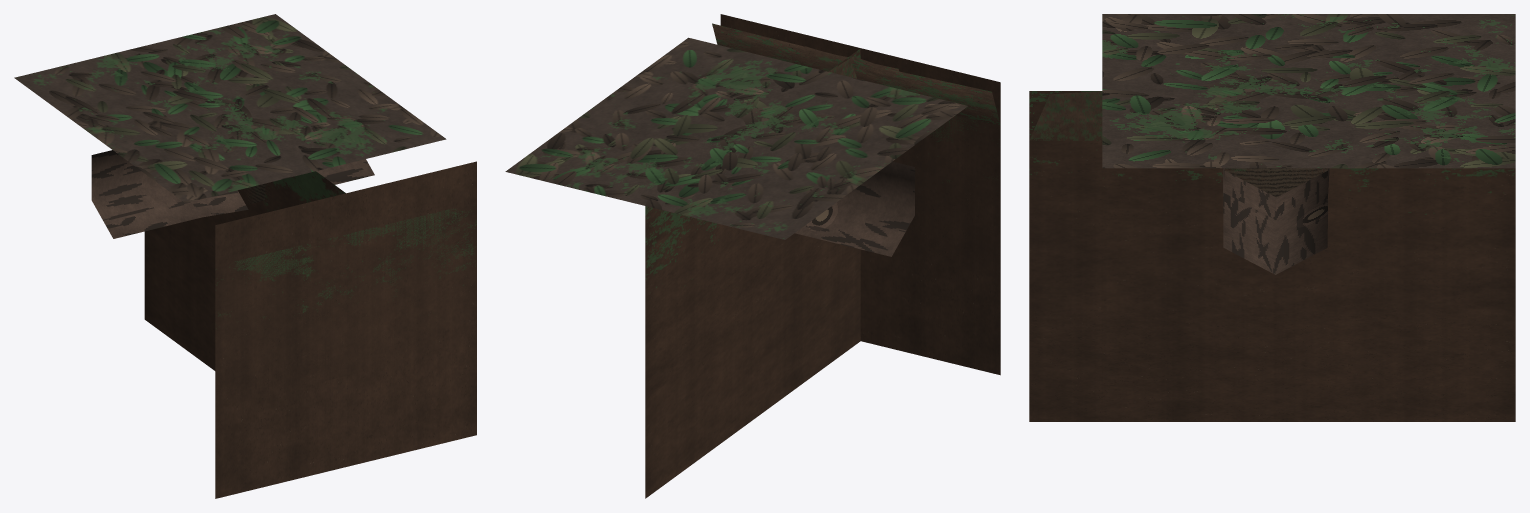
Rendered from platform_skins_cuyabeno_LOD2.glb.
The picture shows the model from 3 angles, left to right: view 1: azimuth 30°, elevation 25°; view 2: azimuth 150°, elevation 25°; view 3: azimuth 270°, elevation 25°; orthographic projection. The views are drawn at different scales.
Visible parts, largest first — view 1: Solid_Fill_2m_LOD2, Solid_Top_2m_LOD2, Solid_Fill_CapR_LOD2, Solid_Top_CapL_LOD2, Oneway_2m_LOD2, Solid_Top_CapR_LOD2, Oneway_CapR_LOD2; view 2: Solid_Top_2m_LOD2, Solid_Fill_CapR_LOD2, Solid_Fill_2m_LOD2, Solid_Top_CapL_LOD2, Solid_Top_CapR_LOD2, Oneway_2m_LOD2, Lip_2m_LOD2; view 3: Solid_Fill_CapL_LOD2, Solid_Top_2m_LOD2, Solid_Top_CapL_LOD2, Solid_Top_CapR_LOD2, Oneway_2m_LOD2, Lip_CapL_LOD2, Oneway_CapL_LOD2.
Part boxes in pixels (x1,y1,x2,y2): Solid_Fill_2m_LOD2: (215, 161, 476, 498); Solid_Top_2m_LOD2: (14, 14, 476, 406); Solid_Fill_CapR_LOD2: (144, 171, 345, 370); Solid_Top_CapL_LOD2: (146, 39, 388, 375); Oneway_2m_LOD2: (91, 150, 374, 238); Solid_Top_CapR_LOD2: (131, 46, 346, 385); Oneway_CapR_LOD2: (192, 183, 269, 217); Solid_Top_2m_LOD2: (505, 37, 1000, 276); Solid_Fill_CapR_LOD2: (645, 48, 907, 498); Solid_Fill_2m_LOD2: (720, 14, 1000, 375); Solid_Top_CapL_LOD2: (604, 61, 853, 396); Solid_Top_CapR_LOD2: (645, 75, 906, 396); Oneway_2m_LOD2: (795, 161, 914, 256); Lip_2m_LOD2: (712, 23, 1000, 125); Solid_Fill_CapL_LOD2: (1029, 91, 1515, 421); Solid_Top_2m_LOD2: (1102, 14, 1515, 168); Solid_Top_CapL_LOD2: (1029, 91, 1515, 311); Solid_Top_CapR_LOD2: (1029, 65, 1515, 311); Oneway_2m_LOD2: (1223, 170, 1327, 274); Lip_CapL_LOD2: (1029, 91, 1102, 140); Oneway_CapL_LOD2: (1223, 168, 1329, 219).
Bounding box in the file's own units: 2 × 2 × 2.67.
1 material, 1 textured.
